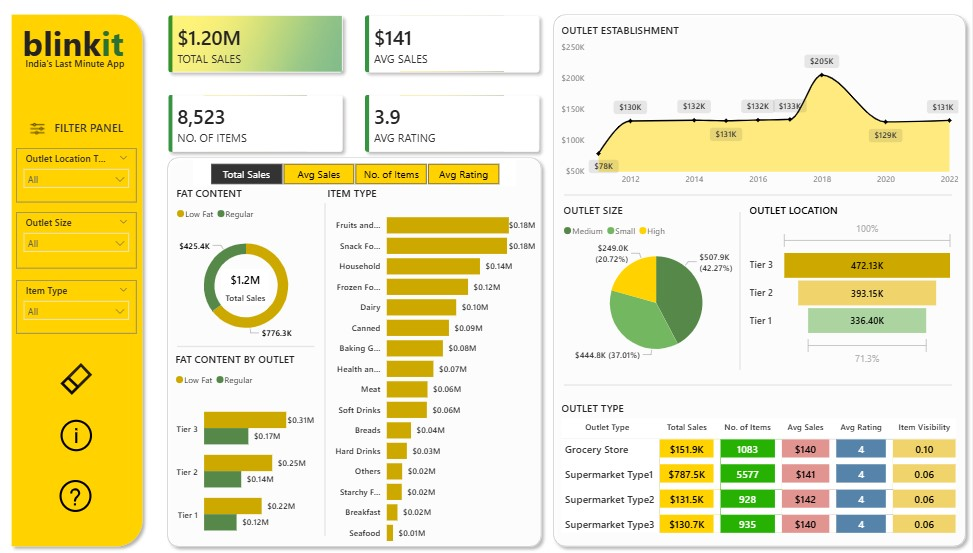

The dashboard page shown, as its layout file describes it:
{"tool":"powerbi","page":{"name":"Page 1","canvas":[1400,800],"ordinal":0},"visuals":[{"type":"shape","box":[12.6,18.9,206.3,781.1],"z":0},{"type":"textbox","box":[33.1,29.9,166.9,89.8],"z":1000},{"type":"textbox","box":[25.2,85,174.8,34.6],"z":2000},{"type":"cardVisual","fields":{"Data":["BlinkIT Grocery Data.Total Sales","BlinkIT Grocery Data.Avg Sales","BlinkIT Grocery Data.No. of Items","BlinkIT Grocery Data.Avg Rating"]},"box":[217.3,0,590.6,255.1],"z":3000},{"type":"shape","box":[236.2,223.6,554.3,576.4],"z":4000},{"type":"donutChart","title":"FAT CONTENT","fields":{"Y":["BlinkIT Grocery Data.Total Sales"],"Category":["BlinkIT Grocery Data.Item Fat Content"]},"box":[253.5,274,209.4,237.8],"z":5000},{"type":"slicer","fields":{"Values":["Metrics.Metrics"]},"box":[281.9,234.6,463,39.4],"z":6000},{"type":"card","fields":{"Values":["BlinkIT Grocery Data.Total Sales"]},"box":[323,393,70,52],"z":7000},{"type":"clusteredBarChart","title":"FAT CONTENT BY OUTLET","fields":{"Y":["BlinkIT Grocery Data.Total Sales"],"Category":["BlinkIT Grocery Data.Outlet Location Type"],"Series":["BlinkIT Grocery Data.Item Fat Content"]},"box":[252,511.8,209.4,288.2],"z":8000},{"type":"shape","box":[463,297.6,17.3,477.2],"z":9000},{"type":"shape","box":[259.8,496.1,196.9,15.7],"z":10000},{"type":"barChart","title":"ITEM TYPE","fields":{"Y":["BlinkIT Grocery Data.Total Sales"],"Category":["BlinkIT Grocery Data.Item Type"]},"box":[470.9,274,308.7,526],"z":11000},{"type":"shape","box":[790.6,18.9,609.4,781.1],"z":12000},{"type":"lineChart","title":"OUTLET ESTABLISHMENT","fields":{"Category":["BlinkIT Grocery Data.Outlet Establishment Year"],"Y":["BlinkIT Grocery Data.Total Sales"]},"box":[805.7,40.1,579.2,242.3],"z":13000},{"type":"shape","box":[814.3,275.3,556.3,22.9],"z":14000},{"type":"pieChart","title":"OUTLET SIZE","fields":{"Y":["BlinkIT Grocery Data.Total Sales","BlinkIT Grocery Data.Total Sales"],"Category":["BlinkIT Grocery Data.Outlet Size"]},"box":[809.3,298.6,275.6,237.8],"z":15000},{"type":"shape","box":[1058.1,311.1,17.2,226.5],"z":16000},{"type":"funnel","title":"OUTLET LOCATION","fields":{"Y":["Sum(BlinkIT Grocery Data.Sales)"],"Category":["BlinkIT Grocery Data.Outlet Location Type"]},"box":[1075.3,298.2,302.5,238],"z":17000},{"type":"pivotTable","title":"OUTLET TYPE","fields":{"Rows":["BlinkIT Grocery Data.Outlet Type"],"Values":["BlinkIT Grocery Data.Total Sales","BlinkIT Grocery Data.No. of Items","BlinkIT Grocery Data.Avg Sales","BlinkIT Grocery Data.Avg Rating","Avg(BlinkIT Grocery Data.Item Visibility)"]},"box":[805.7,582.1,579.2,203.6],"z":18000},{"type":"shape","box":[814.3,547.7,556.3,22.9],"z":19000},{"type":"slicer","fields":{"Values":["BlinkIT Grocery Data.Outlet Location Type"]},"box":[28.6,219.8,173.1,78.3],"z":20000},{"type":"slicer","fields":{"Values":["BlinkIT Grocery Data.Outlet Size"]},"box":[28.6,311.6,173.1,81.3],"z":21000},{"type":"slicer","fields":{"Values":["BlinkIT Grocery Data.Item Type"]},"box":[28.6,408,173.1,76.8],"z":22000},{"type":"actionButton","box":[39.4,522.8,152.8,55],"z":23000},{"type":"actionButton","box":[30.1,593.5,169.2,76],"z":24000},{"type":"textbox","box":[78.7,174.8,113.4,45.7],"z":25000},{"type":"image","box":[45,180,30,22],"z":26000},{"type":"actionButton","box":[84.6,683.9,58.8,68.8],"z":27000}]}

Visuals, with their boxes in screenshot pixels (x1, y1, x2, y2), scaled from the page's 1400x800 canvas onto the 973x553 screenshot:
shape: [left=9, top=13, right=152, bottom=552]
textbox: [left=23, top=21, right=139, bottom=83]
textbox: [left=18, top=59, right=139, bottom=83]
cardVisual - BlinkIT Grocery Data.Total Sales x BlinkIT Grocery Data.Avg Sales: [left=151, top=0, right=561, bottom=176]
shape: [left=164, top=155, right=549, bottom=552]
"FAT CONTENT" donutChart: [left=176, top=189, right=322, bottom=354]
slicer - Metrics.Metrics: [left=196, top=162, right=518, bottom=189]
card - BlinkIT Grocery Data.Total Sales: [left=224, top=272, right=273, bottom=308]
"FAT CONTENT BY OUTLET" clusteredBarChart: [left=175, top=354, right=321, bottom=552]
shape: [left=322, top=206, right=334, bottom=536]
shape: [left=181, top=343, right=317, bottom=354]
"ITEM TYPE" barChart: [left=327, top=189, right=542, bottom=552]
shape: [left=549, top=13, right=972, bottom=552]
"OUTLET ESTABLISHMENT" lineChart: [left=560, top=28, right=963, bottom=195]
shape: [left=566, top=190, right=953, bottom=206]
"OUTLET SIZE" pieChart: [left=562, top=206, right=754, bottom=371]
shape: [left=735, top=215, right=747, bottom=372]
"OUTLET LOCATION" funnel: [left=747, top=206, right=958, bottom=371]
"OUTLET TYPE" pivotTable: [left=560, top=402, right=963, bottom=543]
shape: [left=566, top=379, right=953, bottom=394]
slicer - BlinkIT Grocery Data.Outlet Location Type: [left=20, top=152, right=140, bottom=206]
slicer - BlinkIT Grocery Data.Outlet Size: [left=20, top=215, right=140, bottom=272]
slicer - BlinkIT Grocery Data.Item Type: [left=20, top=282, right=140, bottom=335]
actionButton: [left=27, top=361, right=134, bottom=399]
actionButton: [left=21, top=410, right=139, bottom=463]
textbox: [left=55, top=121, right=134, bottom=152]
image: [left=31, top=124, right=52, bottom=140]
actionButton: [left=59, top=473, right=100, bottom=520]
